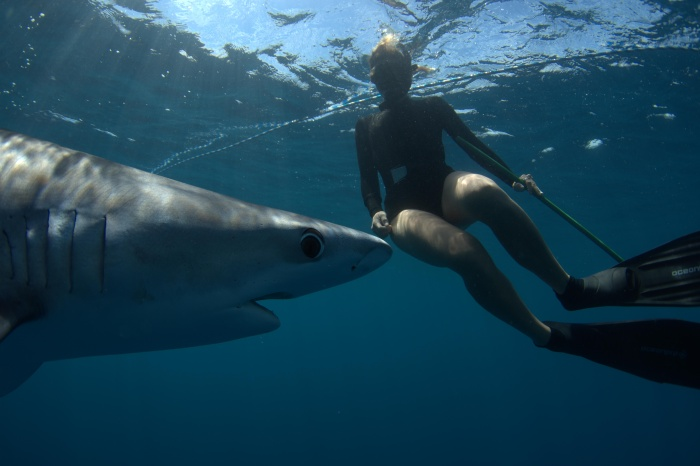Azul: (1, 117, 390, 384)
